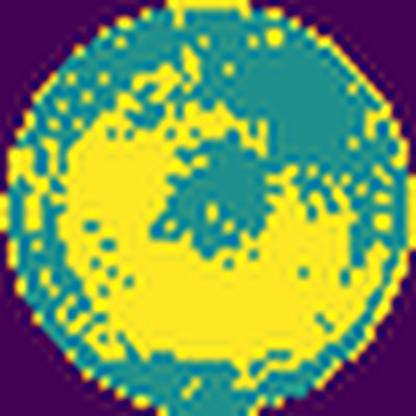Donut: (50, 40, 396, 375)
